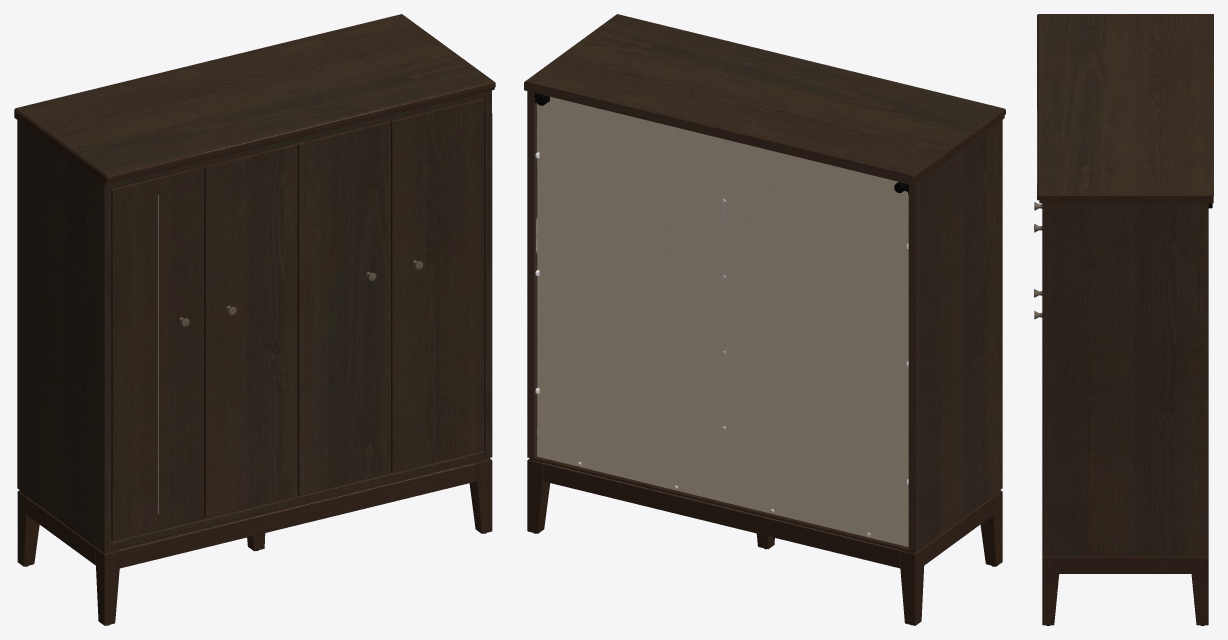
File: 36 - IDANÄS Cabinet with bi-folding doors - dark brown stained 121x135 cm.glb
3 views of the same model, side by side, from view 1: azimuth 30°, elevation 25°; view 2: azimuth 150°, elevation 25°; view 3: azimuth 270°, elevation 25° (orthographic). The views are drawn at different scales.
Parts seen in each view (by area): view 1: 80458820-IDANÃƒâ€žS001; view 2: 80458820-IDANÃƒâ€žS001; view 3: 80458820-IDANÃƒâ€žS001.
Boxes of the visible parts, x1,y1,x2,y2 form: 80458820-IDANÃƒâ€žS001: (14, 14, 495, 625); 80458820-IDANÃƒâ€žS001: (524, 14, 1005, 625); 80458820-IDANÃƒâ€žS001: (1034, 14, 1213, 625).
Bounding box in the file's own units: 1.21 × 1.35 × 0.5079.
1 material, 1 textured.
